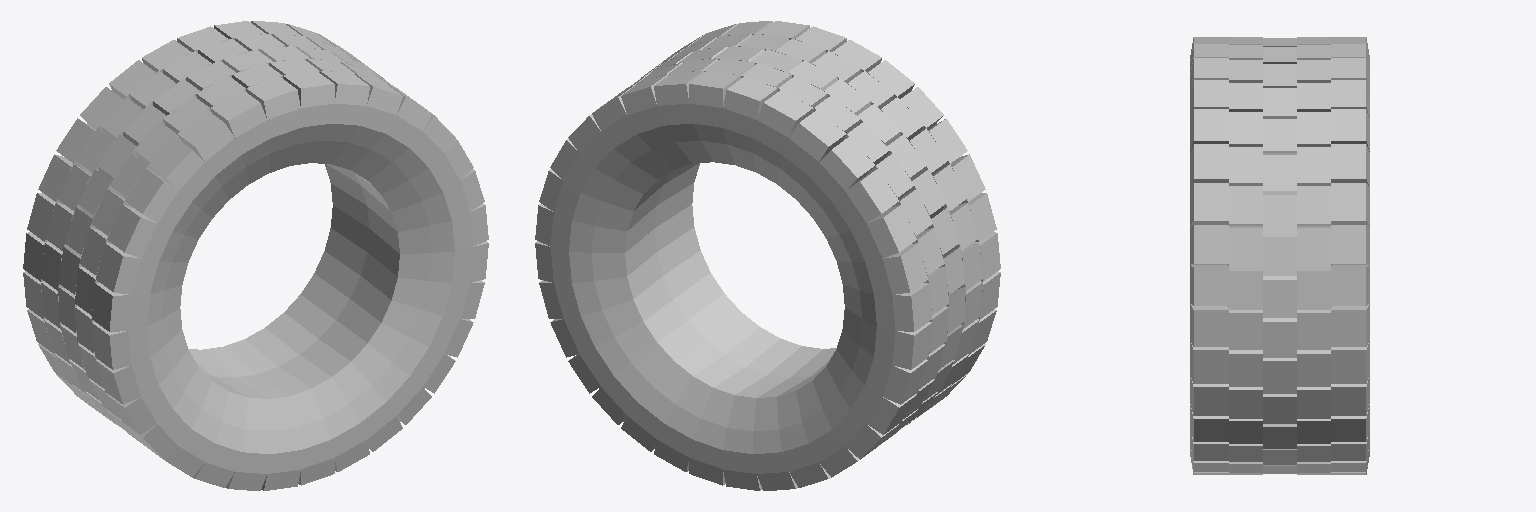
File: Tire.obj
3 views of the same model, side by side, from view 1: azimuth 30°, elevation 25°; view 2: azimuth 150°, elevation 25°; view 3: azimuth 270°, elevation 25° (orthographic).
Visible parts, largest first — view 1: Cylinder; view 2: Cylinder; view 3: Cylinder.
Part boxes in pixels (x1,y1,x2,y2): Cylinder: (23, 21, 488, 490); Cylinder: (535, 21, 1000, 490); Cylinder: (1190, 37, 1369, 474).
Bounding box in the file's own units: 2.2 × 2.2 × 0.9043.